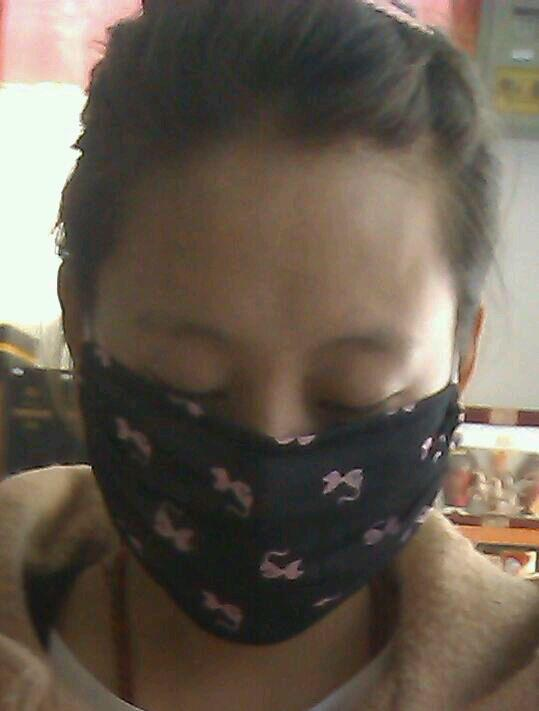OK: (90, 274, 453, 637)
